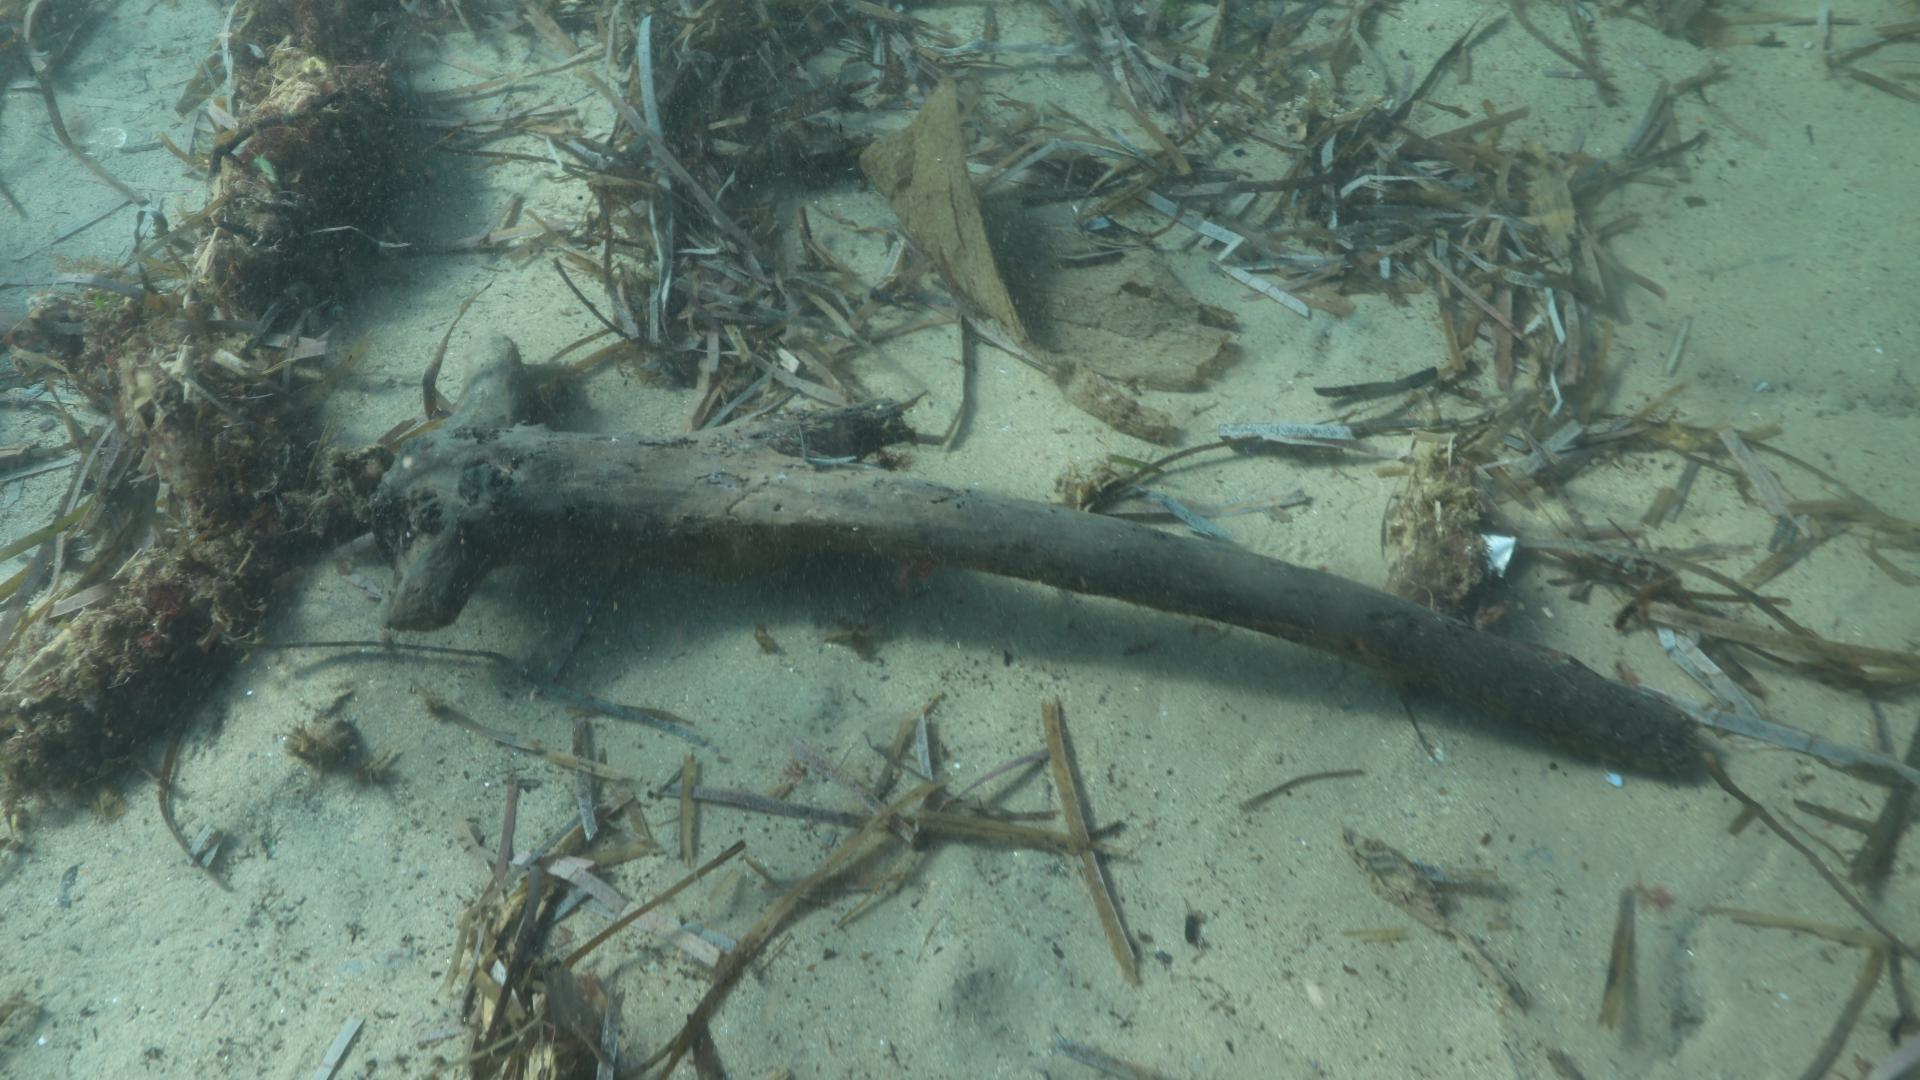wood: (371, 334, 1701, 787), (857, 76, 1232, 440)
